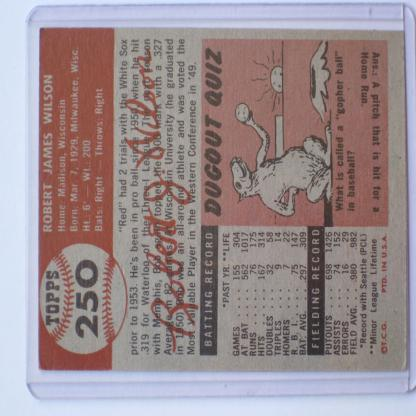Ball: (236, 105, 248, 122)
